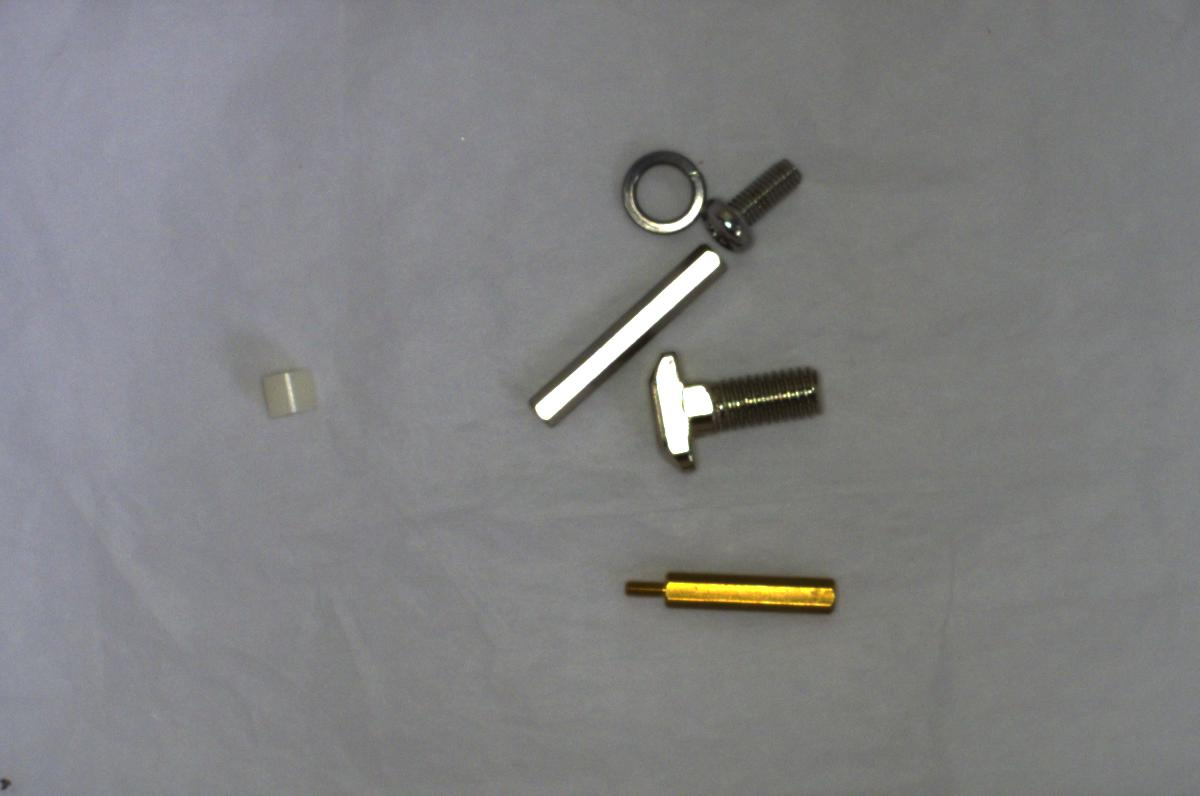Double hexagonal column: (526, 240, 722, 433)
Hexagon pillar: (614, 556, 842, 618)
Plastic cushion pillar: (252, 360, 327, 427)
Round head screw: (700, 154, 804, 255)
Spring washer: (611, 142, 715, 241)
